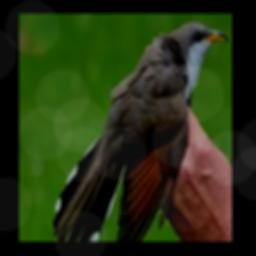Cuckoo: (52, 21, 228, 242)
